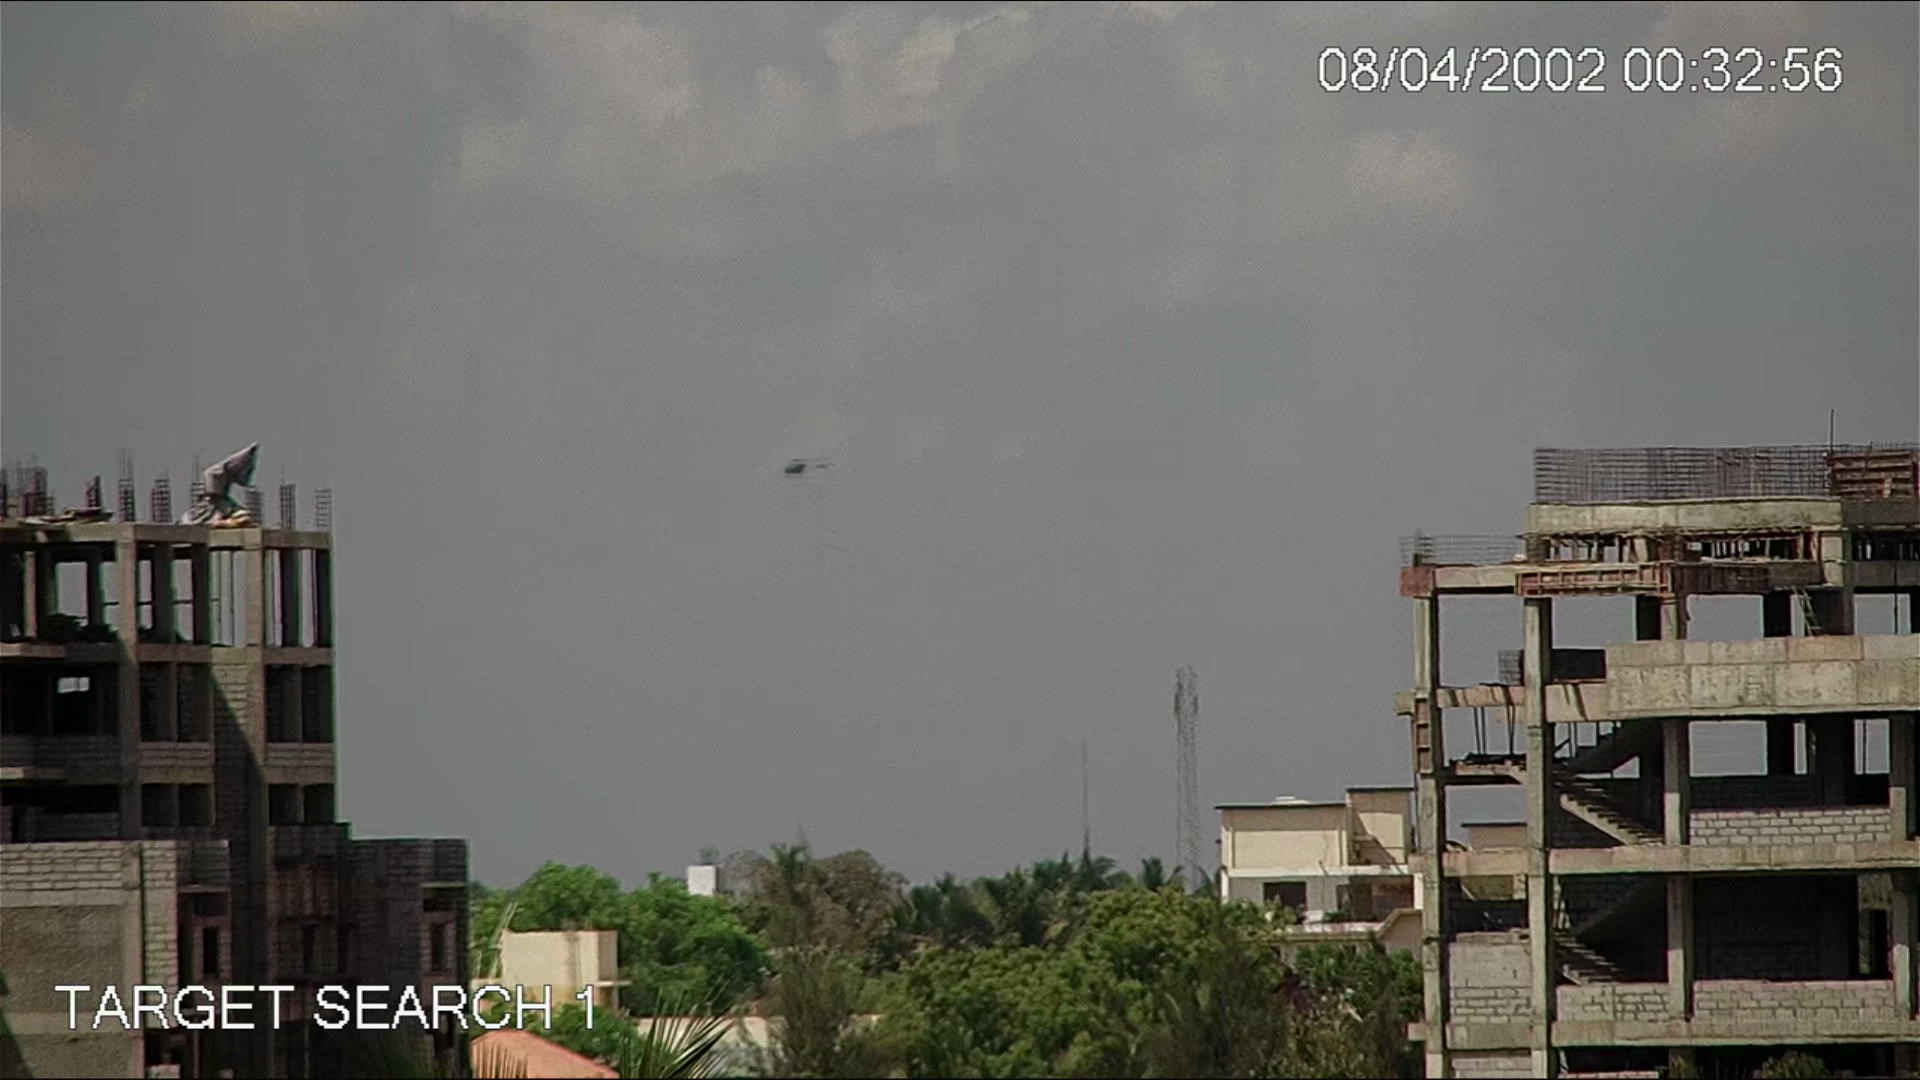SU_30: (781, 454, 839, 481)
